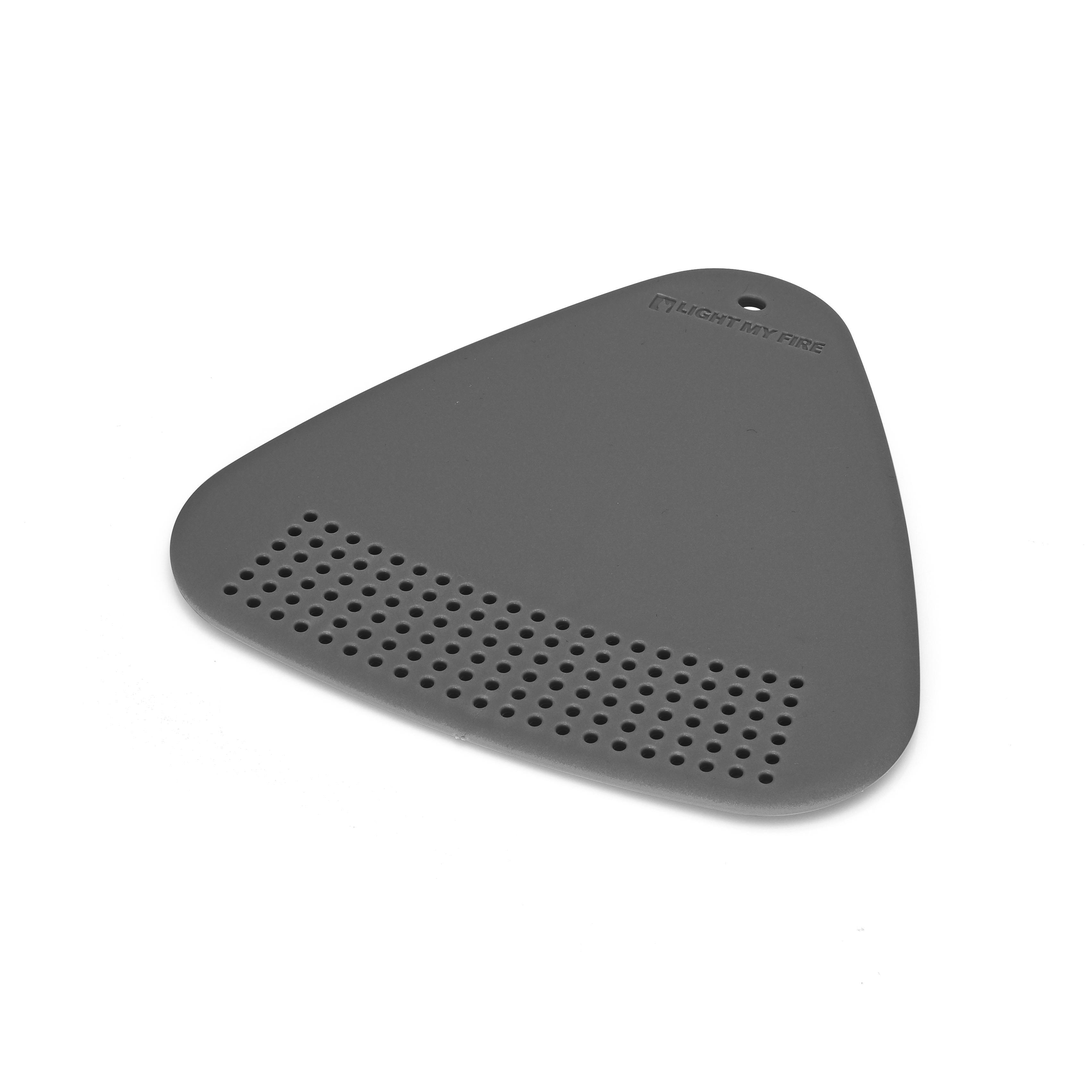gloved_hand: (155, 244, 944, 837)
